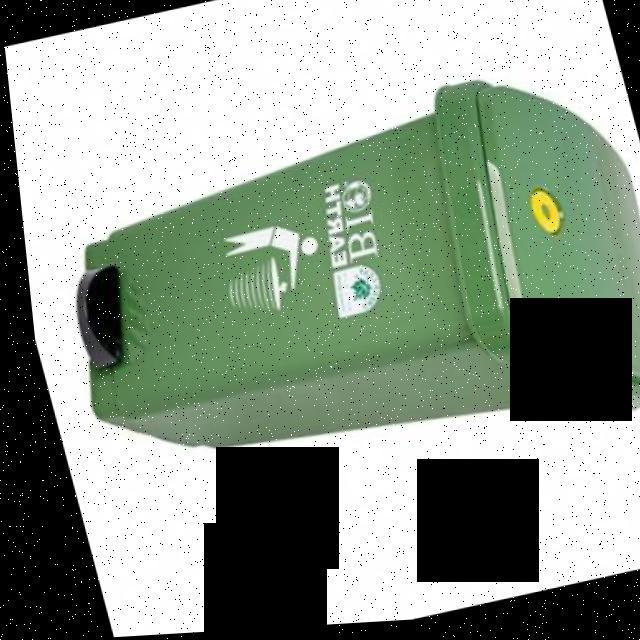bin: (5, 37, 640, 537)
